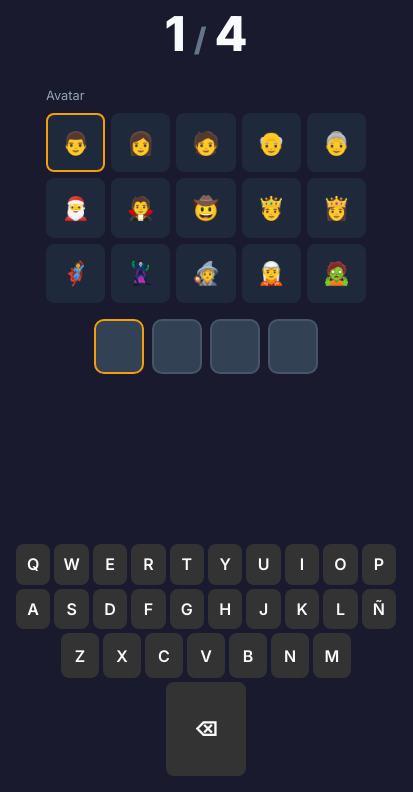
Test case: PlayerRegistration › fills nick slot when key is pressed
The image size is (413, 792).
Click the button "Q": {"x": 33, "y": 565} [16,544,50,585]
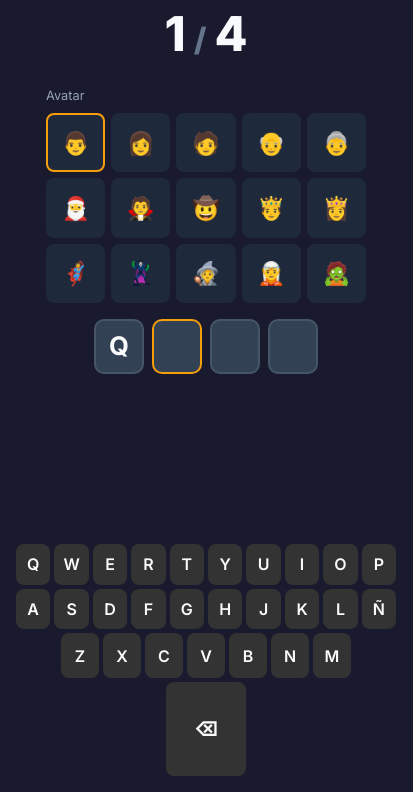
Check: the text with class "nick-slot" reads "Q", box [109,330,129,361]
